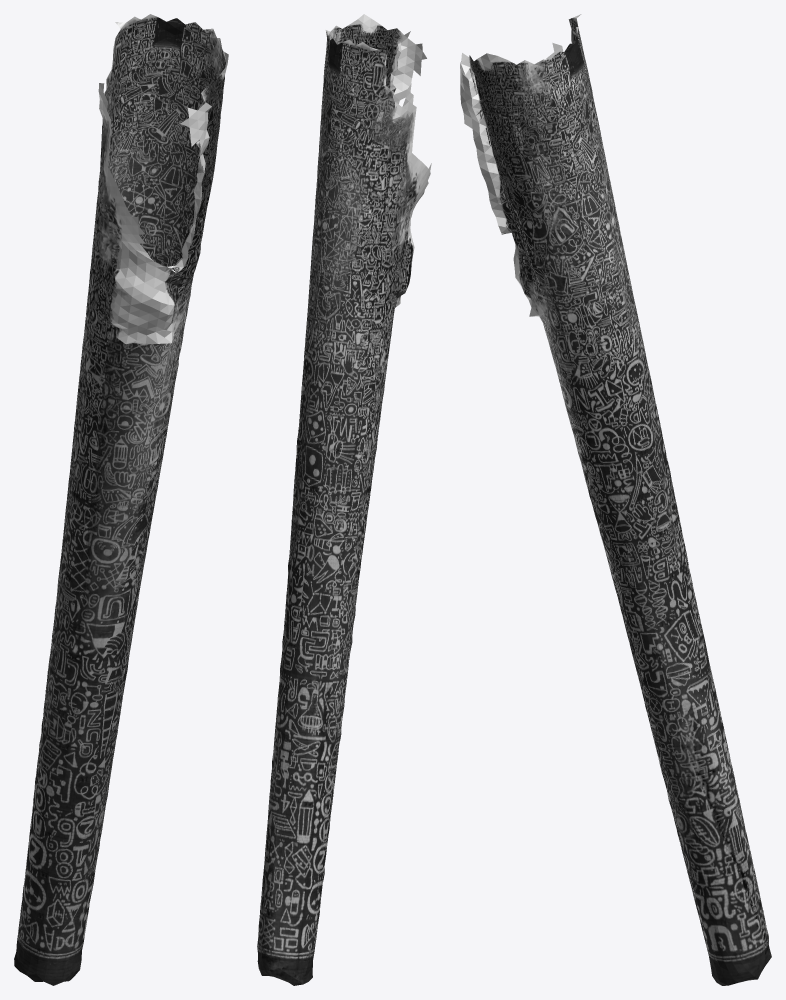
File: lowres.obj
3 renders of one model, left to right at view 1: azimuth 30°, elevation 25°; view 2: azimuth 150°, elevation 25°; view 3: azimuth 270°, elevation 25°, orthographic. The views are drawn at different scales.
Visible parts, largest first — view 1: lowPolyMesh; view 2: lowPolyMesh; view 3: lowPolyMesh.
Part boxes in pixels (x1,y1,x2,y2): lowPolyMesh: [14, 14, 228, 985]; lowPolyMesh: [257, 14, 431, 985]; lowPolyMesh: [460, 14, 771, 985].
Bounding box in the file's own units: 0.4155 × 3.89 × 1.15.
Materials: 1 (1 with a texture image).
